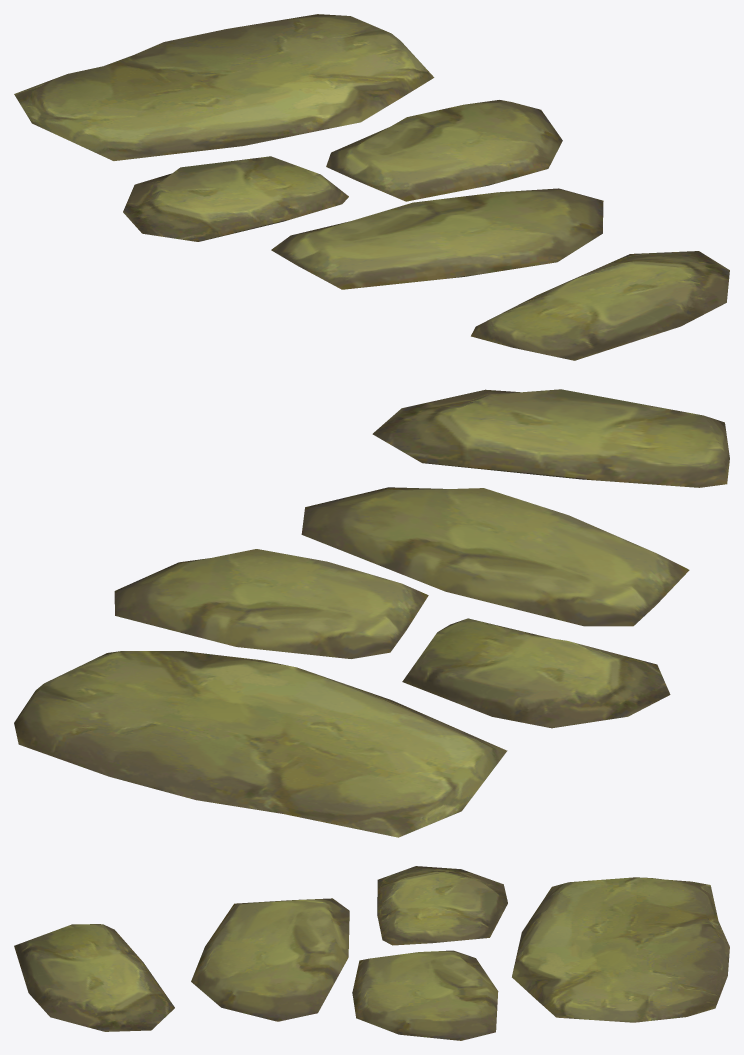
File: loyalismwood_road01.FBX
The picture shows the model from 3 angles, top to bottom: view 1: azimuth 30°, elevation 25°; view 2: azimuth 150°, elevation 25°; view 3: azimuth 270°, elevation 25°; orthographic projection. The views are drawn at different scales.
Parts seen in each view (by area): view 1: loyalismwood_round01; view 2: loyalismwood_round01; view 3: loyalismwood_round01.
Boxes of the visible parts, <box> form: loyalismwood_round01: <box>14,14,729,360</box>; loyalismwood_round01: <box>14,389,729,837</box>; loyalismwood_round01: <box>14,866,729,1040</box>.
Bounding box in the file's own units: 353 × 609 × 9.5.
